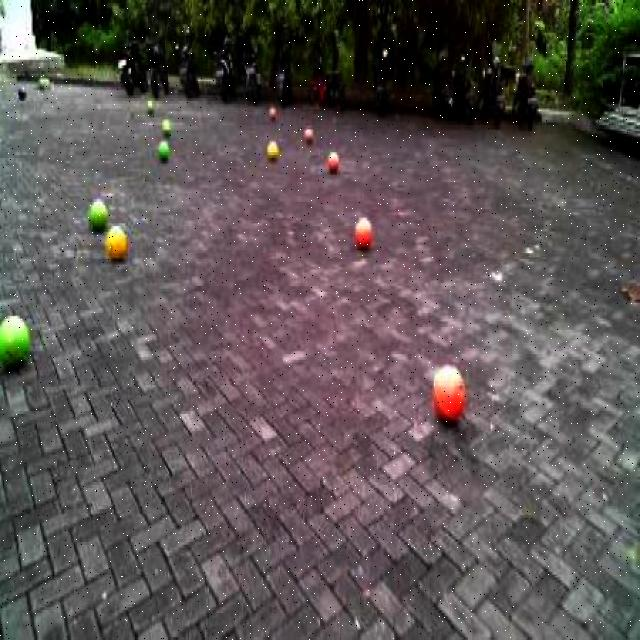buoy: (428, 351, 468, 432), (0, 302, 34, 382), (349, 208, 378, 258), (101, 218, 129, 264), (85, 189, 108, 233)
